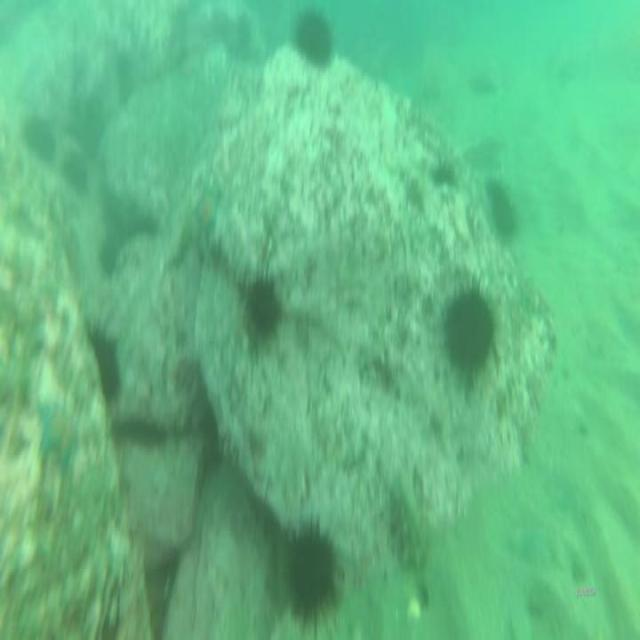echinus: (284, 517, 339, 629), (440, 283, 495, 385), (242, 270, 284, 346), (88, 322, 124, 404), (294, 8, 334, 69), (485, 177, 521, 242), (23, 114, 53, 163), (62, 144, 86, 193), (99, 230, 119, 276)
starfish: (34, 395, 82, 471), (196, 178, 223, 236)
